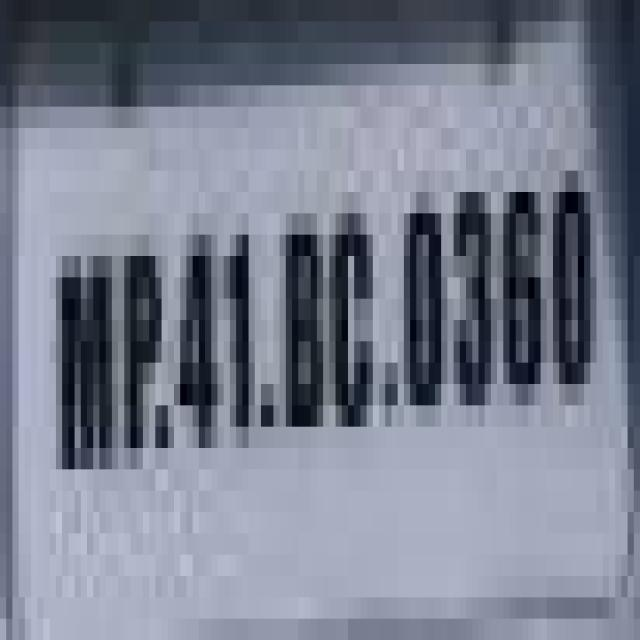license_plate: (18, 21, 640, 554)
